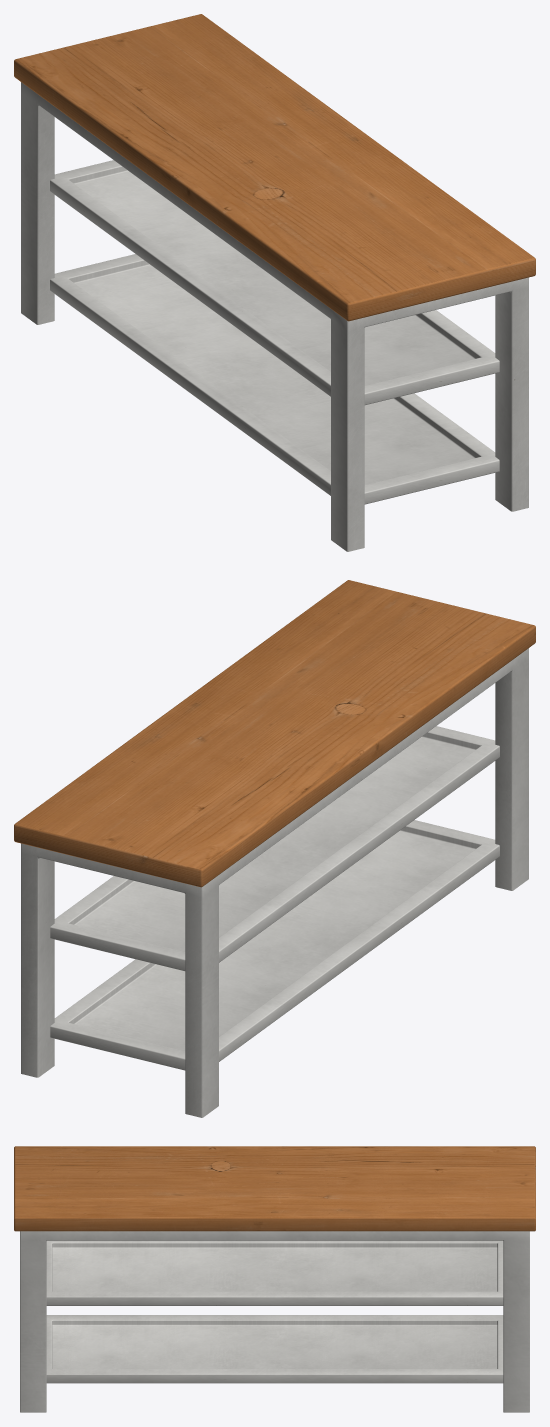
File: Shoebox.fbx
3 views of the same model, one above another, from view 1: azimuth 30°, elevation 25°; view 2: azimuth 150°, elevation 25°; view 3: azimuth 270°, elevation 25° (orthographic). The views are drawn at different scales.
Visible parts, largest first — view 1: Cube.003; view 2: Cube.003; view 3: Cube.003.
Part boxes in pixels (<box>): Cube.003: <box>14,14,535,551</box>; Cube.003: <box>14,580,535,1117</box>; Cube.003: <box>14,1146,535,1412</box>.
Bounding box in the file's own units: 57 × 72.58 × 175.
Materials: 2 (2 with a texture image).
